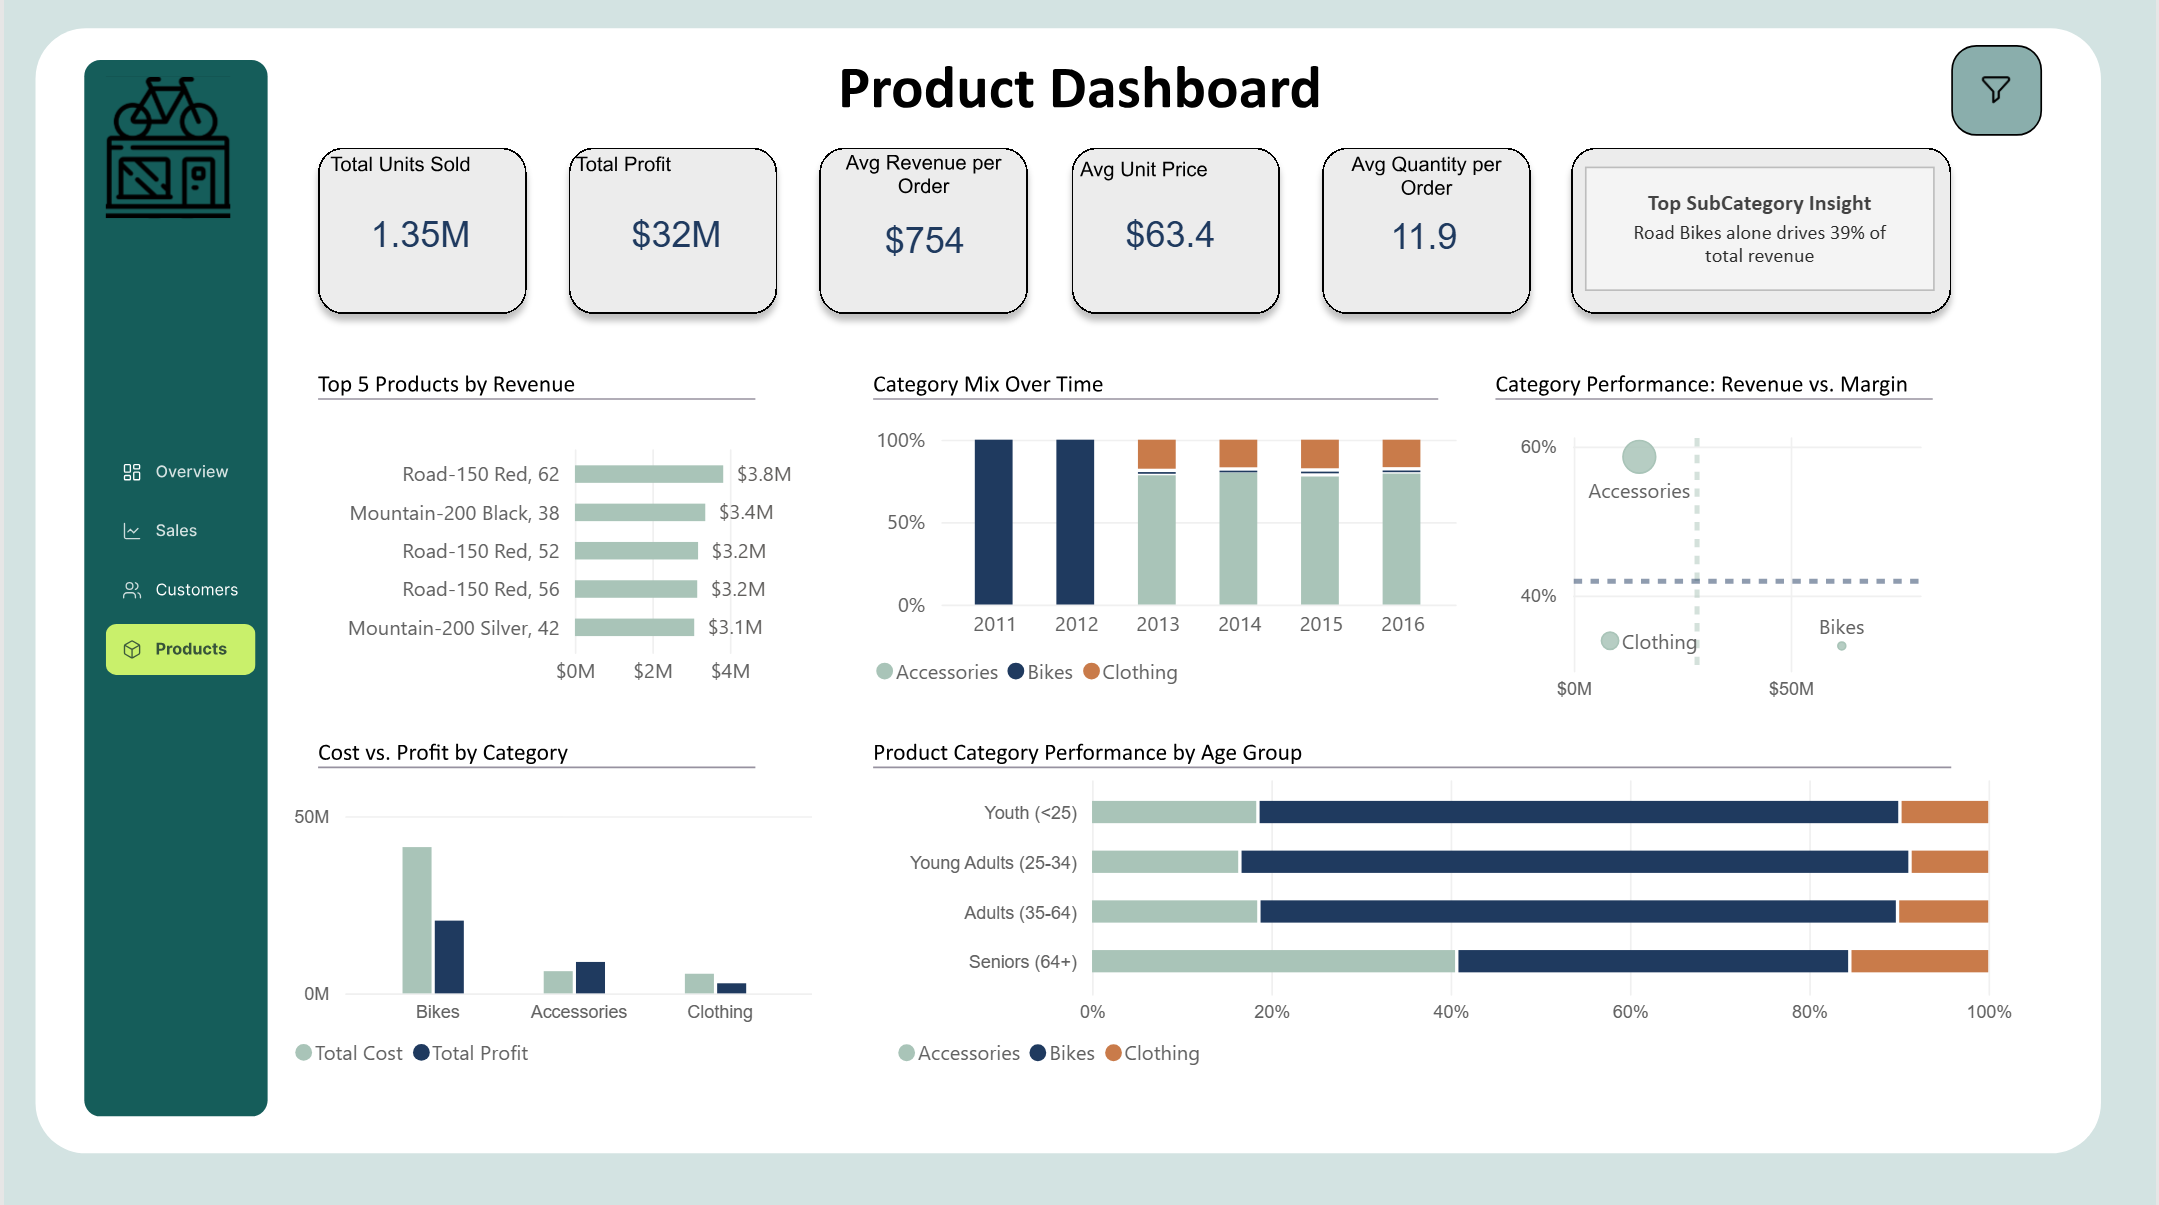

What the dashboard file says about the page in this screenshot:
{"tool":"powerbi","page":{"name":"Product Overview","canvas":[1280,720],"ordinal":2},"visuals":[{"type":"card","fields":{"Values":["_Measures.Total Quantity Sold"]},"box":[189.4,104.4,115.6,78.1],"z":0},{"type":"card","fields":{"Values":["_Measures.Total Profit"]},"box":[346.9,110,106.2,66.9],"z":1000},{"type":"card","fields":{"Values":["_Measures.Avg Order Revenue"]},"box":[496.7,115,101.9,64.4],"z":2000},{"type":"clusteredColumnChart","fields":{"Category":["Sales.Product_Category","Sales.Sub_Category"],"Y":["_Measures.Total Cost","_Measures.Total Profit"]},"box":[156.2,443.8,340,214.4],"z":3000},{"type":"card","fields":{"Values":["_Measures.Avg Order Value"]},"box":[640,103.3,107.5,80.6],"z":4000},{"type":"card","fields":{"Values":["_Measures.Avg order quantity"]},"box":[786.7,110,115,69.4],"z":5000},{"type":"barChart","fields":{"Category":["Sales.Product"],"Y":["_Measures.Total Sales Revenue"]},"box":[178.2,248.2,318.2,182.7],"z":6000},{"type":"actionButton","box":[65.9,298.2,82.4,27.6],"z":7000},{"type":"actionButton","box":[61.8,335.9,82.4,30.6],"z":8000},{"type":"actionButton","title":"Filter button","box":[1159.4,30.6,50.9,50.9],"z":9000},{"type":"hundredPercentStackedBarChart","fields":{"Category":["Sales.Age_Group"],"Series":["Sales.Product_Category"],"Y":["Sum(Sales.Revenue)"]},"box":[515,445,695,213.1],"z":11000},{"type":"hundredPercentStackedColumnChart","fields":{"Category":["Date.Date Hierarchy.Year","Date.Date Hierarchy.Quarter","Date.Date Hierarchy.MonthName","Date.Date Hierarchy.Day"],"Series":["Sales.Product_Category"],"Y":["_Measures.Total Quantity Sold"]},"box":[501.9,240.6,377.5,190],"z":12000},{"type":"cardVisual","fields":{"Data":["_Measures.Top SubCategory Insight"]},"box":[924,87.3,240,104.7],"z":12500},{"type":"scatterChart","fields":{"Category":["Sales.Sub_Category","Sales.Product_Category"],"Size":["Sum(Sales.Order_Quantity)"],"X":["_Measures.Total Sales Revenue"],"Y":["_Measures.Profit Margin %"]},"box":[885,240.8,284.4,196.9],"z":13000},{"type":"shape","box":[66.9,272.5,75.6,20.6],"z":14000}]}

Visuals, with their boxes in screenshot pixels (x1, y1, x2, y2), scaled from the page's 1280x720 canvas onto the 2159x1205 screenshot:
card - _Measures.Total Quantity Sold: 319/175/514/305
card - _Measures.Total Profit: 585/184/764/296
card - _Measures.Avg Order Revenue: 838/192/1010/300
clusteredColumnChart - Sales.Product_Category x Sales.Sub_Category: 263/743/837/1102
card - _Measures.Avg Order Value: 1080/173/1261/308
card - _Measures.Avg order quantity: 1327/184/1521/300
barChart - Sales.Product x _Measures.Total Sales Revenue: 301/415/837/721
actionButton: 111/499/250/545
actionButton: 104/562/243/613
"Filter button" actionButton: 1956/51/2041/136
hundredPercentStackedBarChart - Sales.Age_Group x Sales.Product_Category: 869/745/2041/1101
hundredPercentStackedColumnChart - Date.Date Hierarchy.Year x Date.Date Hierarchy.Quarter: 847/403/1483/721
cardVisual - _Measures.Top SubCategory Insight: 1559/146/1963/321
scatterChart - Sales.Sub_Category x Sales.Product_Category: 1493/403/1972/733
shape: 113/456/240/491
